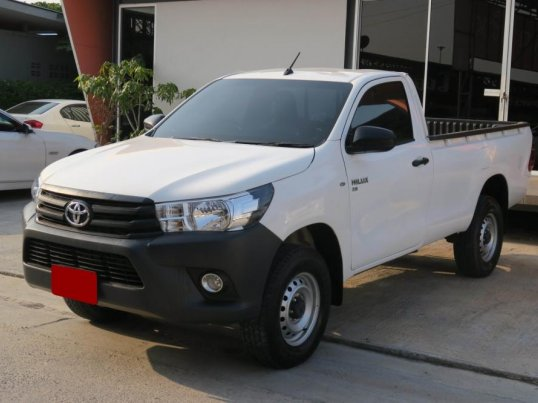pickup: (21, 58, 533, 367)
